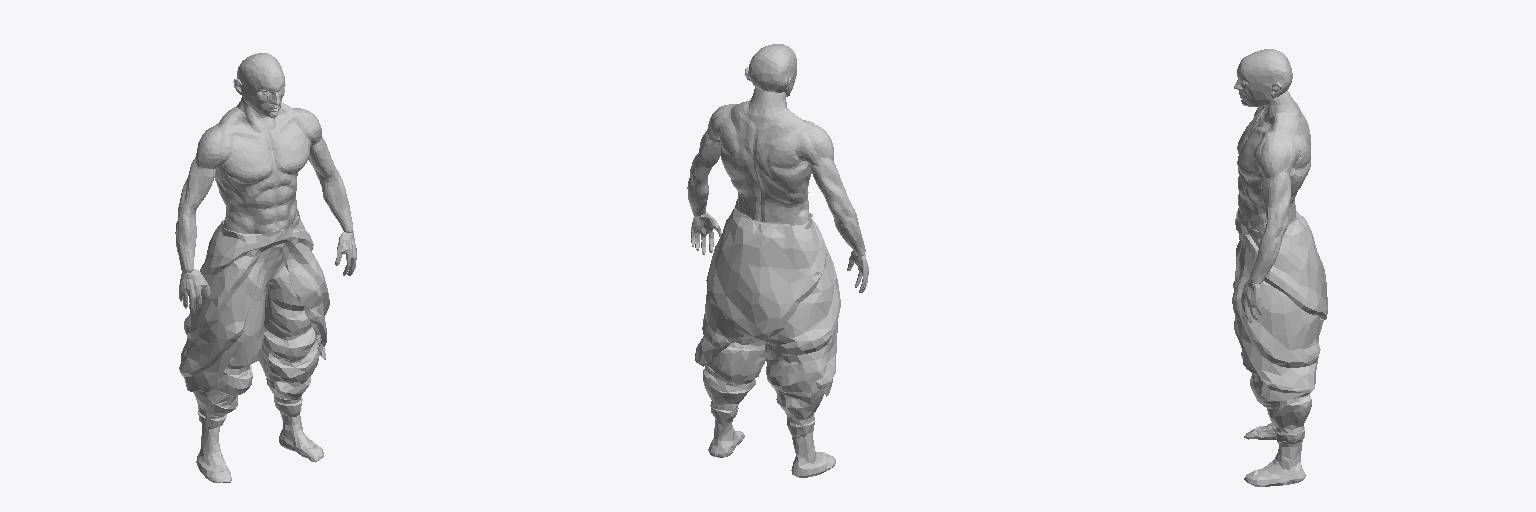
File: hero.obj
3 renders of one model, left to right at view 1: azimuth 30°, elevation 25°; view 2: azimuth 150°, elevation 25°; view 3: azimuth 270°, elevation 25°, orthographic.
Visible parts, largest first — view 1: Cylinder.008_Cylinder.010; view 2: Cylinder.008_Cylinder.010; view 3: Cylinder.008_Cylinder.010.
Part boxes in pixels (bbox=[...]): Cylinder.008_Cylinder.010: bbox=[175, 53, 356, 482]; Cylinder.008_Cylinder.010: bbox=[687, 44, 868, 477]; Cylinder.008_Cylinder.010: bbox=[1232, 49, 1327, 486].
Bounding box in the file's own units: 12.7 × 28.33 × 6.04.